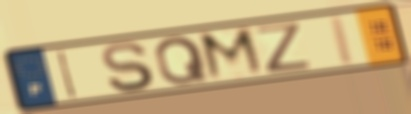I: (327, 13, 358, 68), (55, 48, 80, 101)
M: (195, 25, 270, 84)
Q: (153, 34, 211, 87)
S: (99, 41, 157, 94)
Z: (254, 21, 313, 76)
